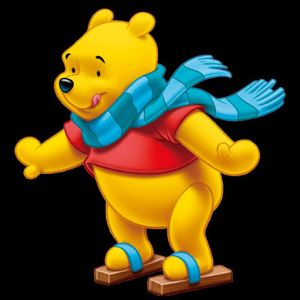bear: (10, 7, 265, 276)
